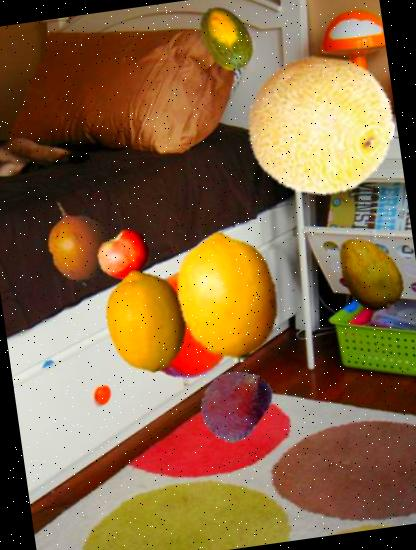Cantaloupe: (239, 43, 405, 209)
Granadilla: (27, 190, 129, 292)
Lemon: (155, 224, 302, 371), (89, 262, 204, 377)
Melon: (190, 0, 268, 76)
Nectarine: (95, 226, 155, 286)
Papaya: (324, 227, 416, 321)
Salak: (193, 362, 278, 448)
Tangelo: (124, 259, 252, 387)
